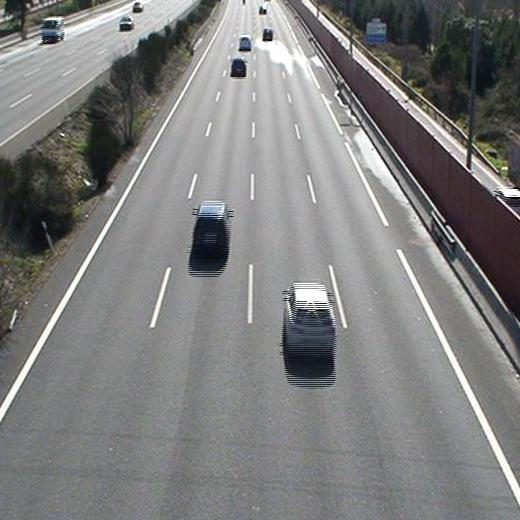car: (282, 280, 338, 359), (193, 200, 230, 251), (230, 58, 248, 76), (239, 36, 251, 51), (261, 28, 274, 40)
